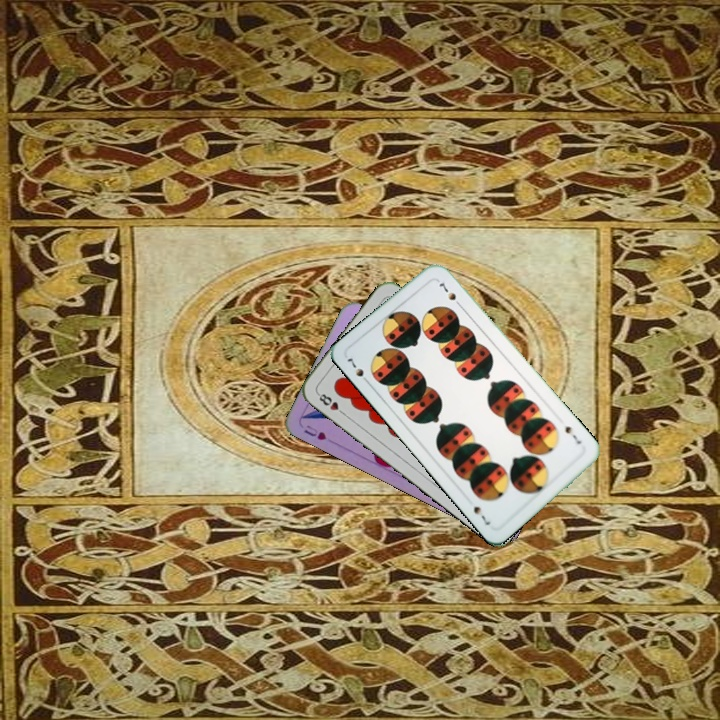H8: (313, 389, 348, 418)
HU: (300, 421, 329, 443)
S7: (343, 354, 373, 387), (561, 422, 584, 447)
